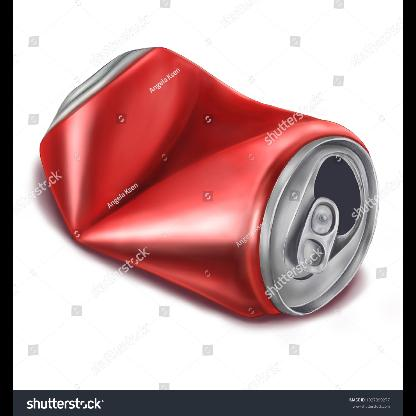Dent_Can: (75, 77, 246, 244), (53, 138, 188, 244), (179, 72, 333, 158)
Lid_Open: (280, 148, 372, 272)
Tin_Can: (35, 43, 383, 327)
